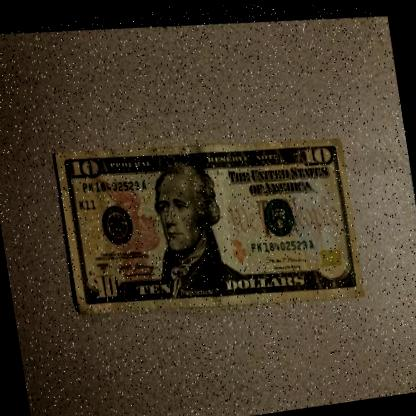dollar_front: (52, 103, 367, 338)
